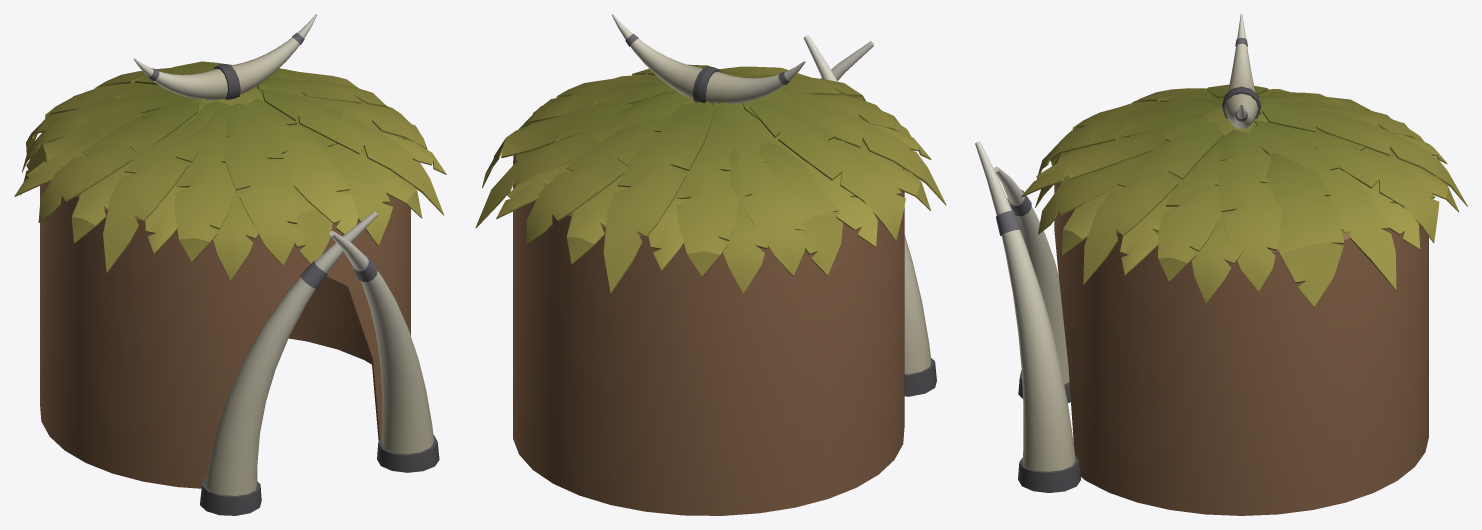
The model's file is Tent_03.fbx.
3 renders of one model, left to right at view 1: azimuth 30°, elevation 25°; view 2: azimuth 150°, elevation 25°; view 3: azimuth 270°, elevation 25°, orthographic. The views are drawn at different scales.
Parts seen in each view (by area): view 1: Tent_03_LOD0; view 2: Tent_03_LOD0; view 3: Tent_03_LOD0.
Part boxes in pixels (bbox=[...]): Tent_03_LOD0: bbox=[14, 14, 446, 515]; Tent_03_LOD0: bbox=[475, 14, 946, 515]; Tent_03_LOD0: bbox=[975, 14, 1467, 515].
Size of what is drawn, in the model's own units: 3.03 by 2.96 by 3.49.
